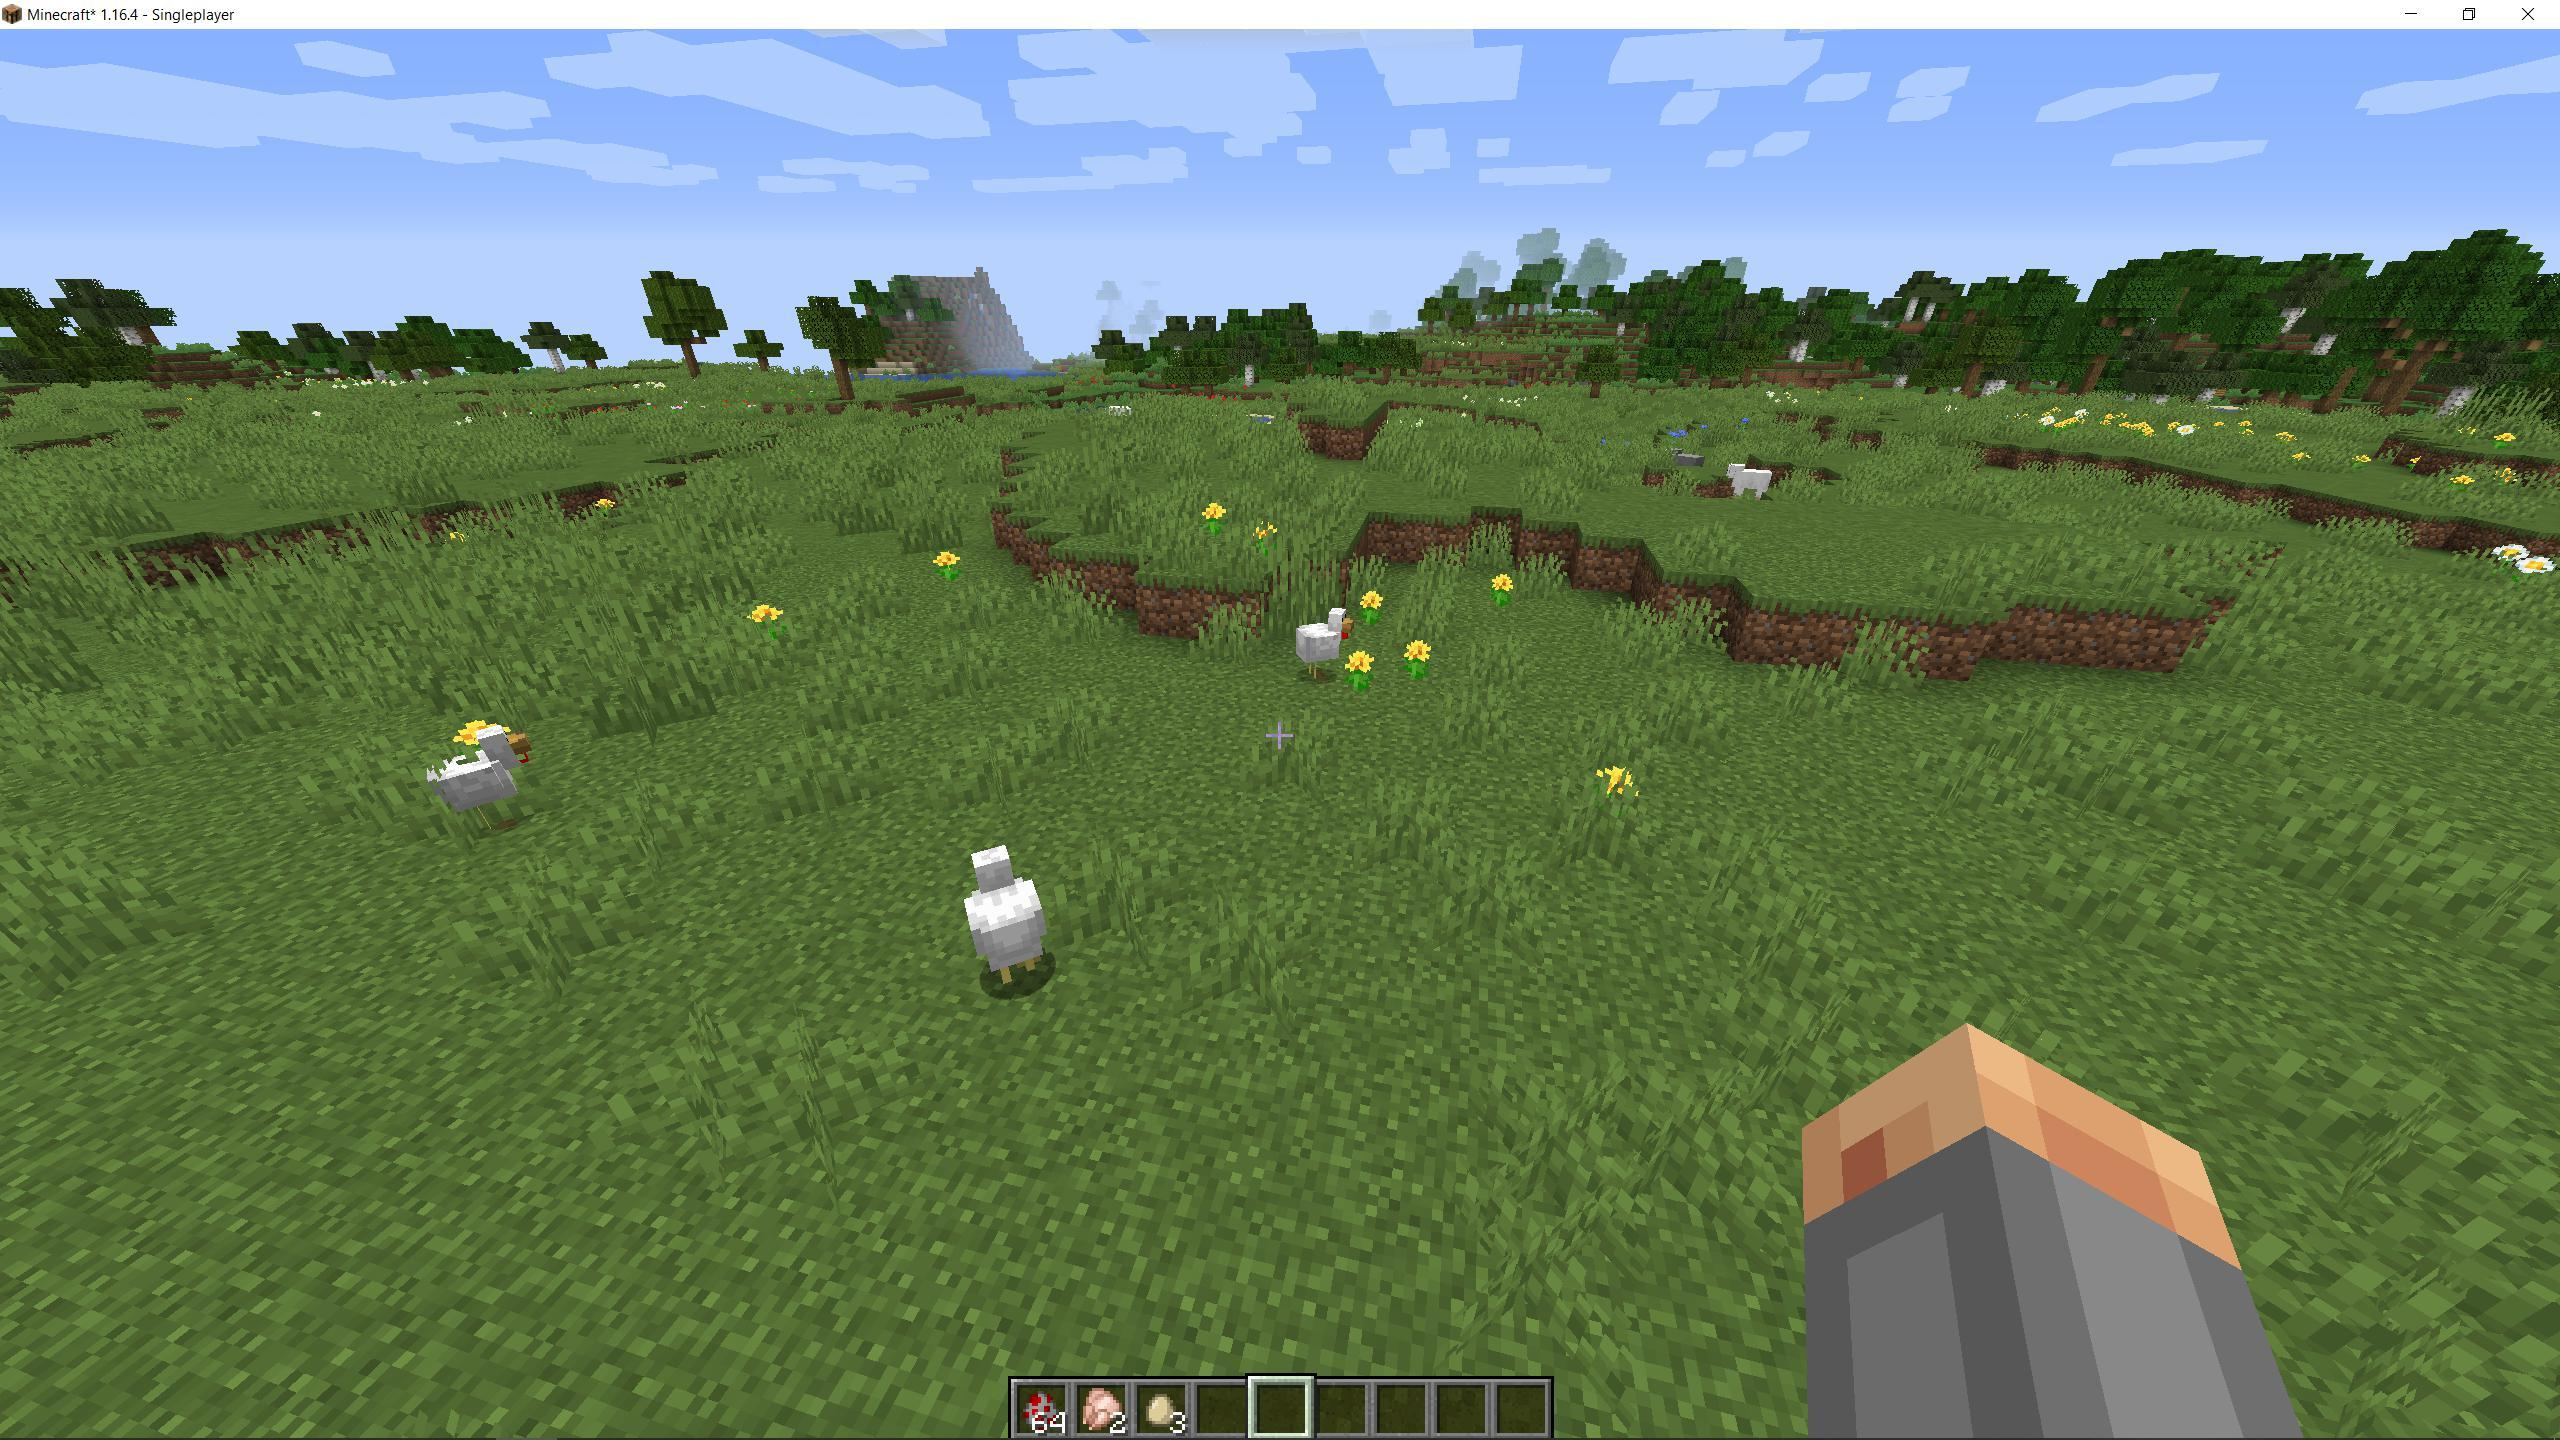chicken: (955, 826, 1060, 1002), (422, 717, 547, 846), (1292, 594, 1359, 689)
